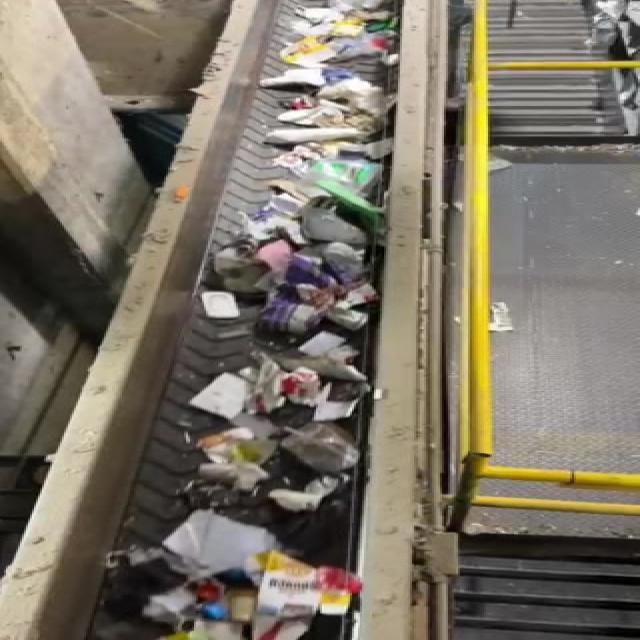paper: (165, 507, 279, 577), (265, 548, 353, 619), (237, 485, 356, 520)
pp: (285, 420, 363, 471)
